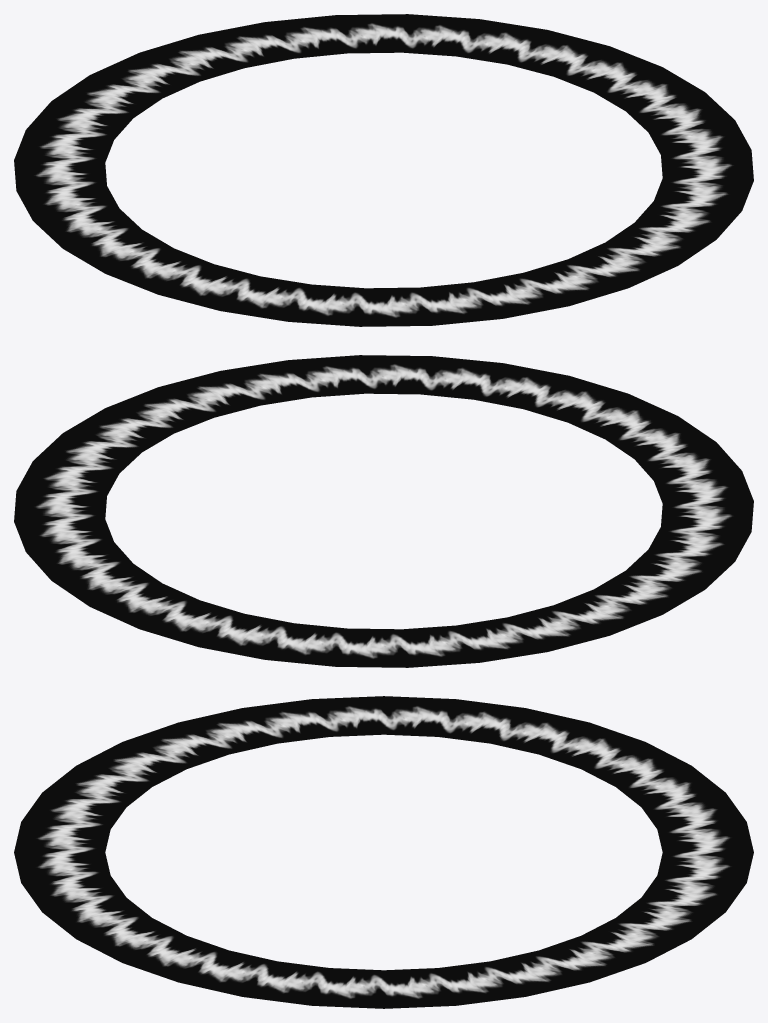
The model's file is torus_flat.fbx.
3 views of the same model, one above another, from view 1: azimuth 30°, elevation 25°; view 2: azimuth 150°, elevation 25°; view 3: azimuth 270°, elevation 25° (orthographic).
Parts seen in each view (by area): view 1: torus_flat; view 2: torus_flat; view 3: torus_flat.
Boxes of the visible parts, bbox=[...] form: torus_flat: bbox=[14, 14, 753, 326]; torus_flat: bbox=[14, 355, 753, 667]; torus_flat: bbox=[14, 696, 753, 1008].
Bounding box in the file's own units: 200 × 3.26e-05 × 200.
